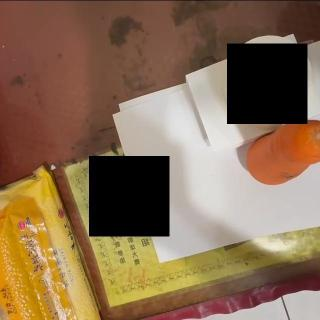carrot: (245, 117, 320, 185)
